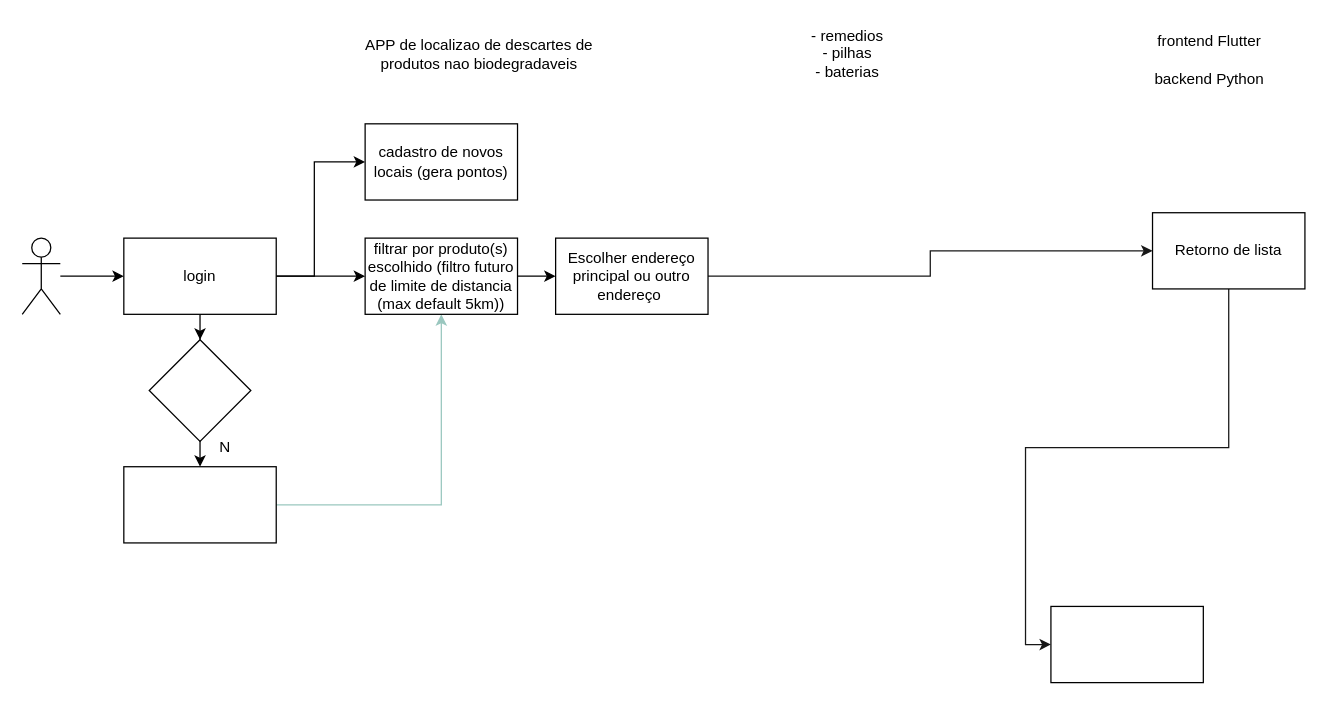
Image size: 1327x705. Some labels were removed from this diagram. Each missing label, with the centre of its shape:
"Actor" goes at (x=40, y=275).
"cadastro (endereço principal)" goes at (x=199, y=504).
"Detalhes do local" goes at (x=1126, y=644).
